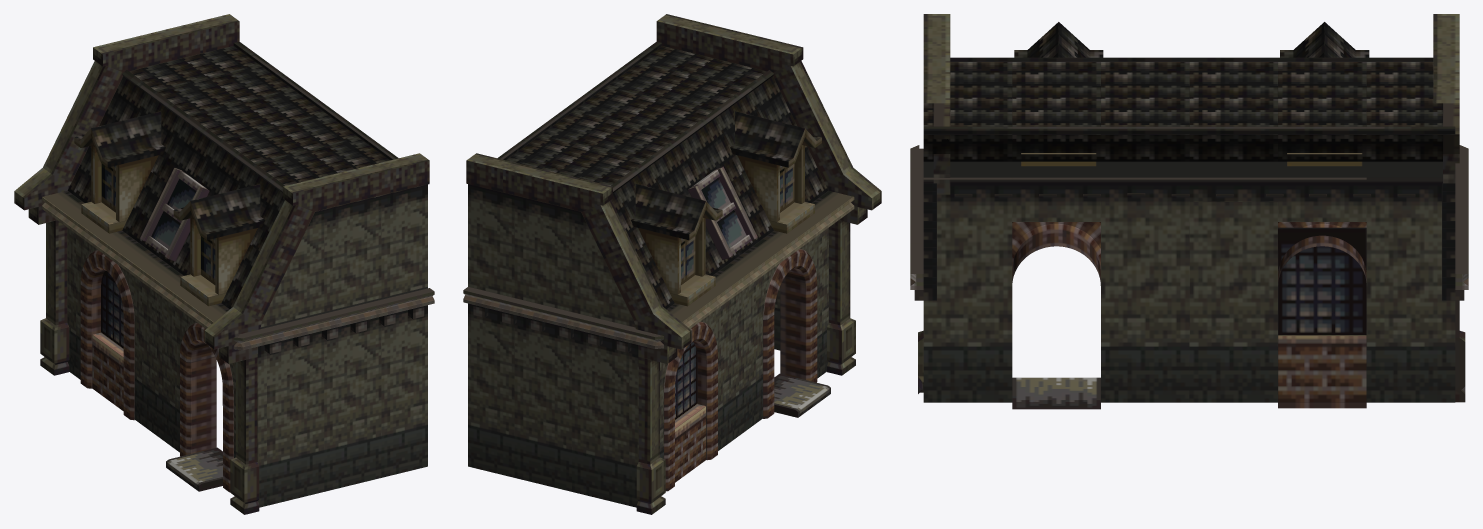
Rendered from EnvBdgMD_City_B_Outdoor_S_B_Arrange_A.FBX.
3 views of the same model, side by side, from view 1: azimuth 30°, elevation 25°; view 2: azimuth 150°, elevation 25°; view 3: azimuth 270°, elevation 25° (orthographic). The views are drawn at different scales.
Parts seen in each view (by area): view 1: EnvBdgMD_City_B_Outdoor_S_B_Arrange_A; view 2: EnvBdgMD_City_B_Outdoor_S_B_Arrange_A; view 3: EnvBdgMD_City_B_Outdoor_S_B_Arrange_A.
Boxes of the visible parts, <box> form: EnvBdgMD_City_B_Outdoor_S_B_Arrange_A: <box>14,14,434,514</box>; EnvBdgMD_City_B_Outdoor_S_B_Arrange_A: <box>463,14,881,514</box>; EnvBdgMD_City_B_Outdoor_S_B_Arrange_A: <box>910,14,1468,409</box>.
Bounding box in the file's own units: 376 × 513 × 630.
1 material, 1 textured.
